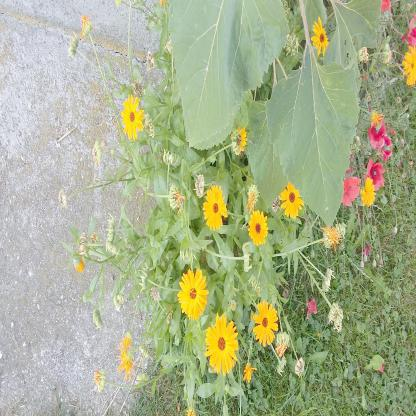marigold: (205, 313, 239, 375), (178, 268, 210, 322), (252, 299, 279, 347), (202, 184, 228, 231), (280, 173, 304, 220), (120, 92, 144, 138), (311, 14, 334, 58), (247, 209, 269, 246), (402, 45, 415, 88), (360, 175, 376, 208), (230, 125, 247, 156)
